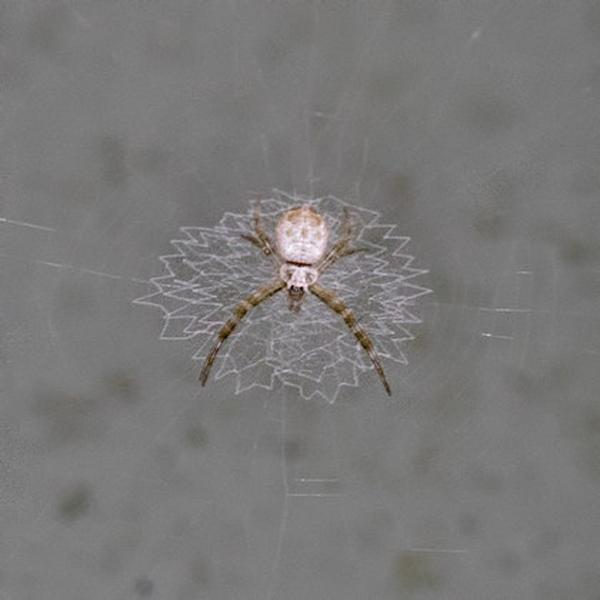St Andrew's Cross Spider: (199, 202, 390, 399)
